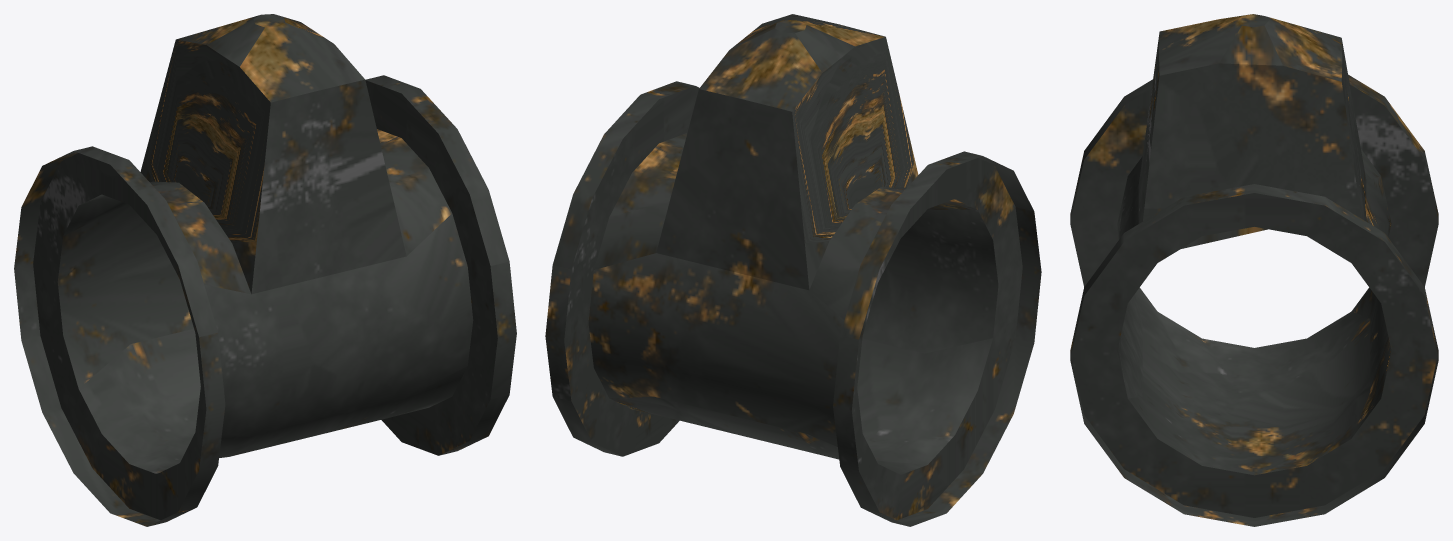
The model's file is pipeValveBody.fbx.
3 views of the same model, side by side, from view 1: azimuth 30°, elevation 25°; view 2: azimuth 150°, elevation 25°; view 3: azimuth 270°, elevation 25° (orthographic). The views are drawn at different scales.
Parts seen in each view (by area): view 1: PipeValvebody; view 2: PipeValvebody; view 3: PipeValvebody.
Boxes of the visible parts, bbox=[...] form: PipeValvebody: bbox=[14, 14, 516, 526]; PipeValvebody: bbox=[545, 14, 1041, 526]; PipeValvebody: bbox=[1070, 14, 1438, 526].
Size of the model in its own units: 0.4004 by 0.5598 by 0.4296.
